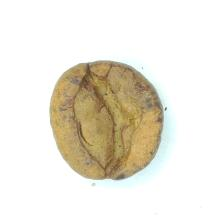NG: (70, 65, 144, 171)
